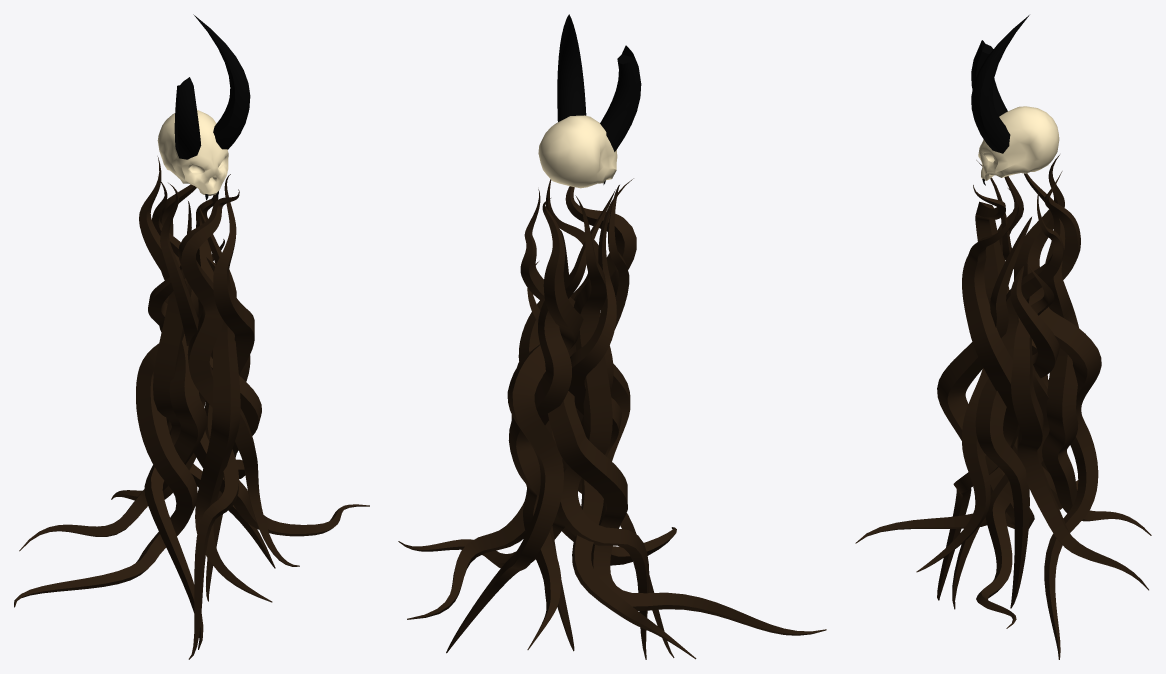
The model's file is RootBoss.fbx.
3 views of the same model, side by side, from view 1: azimuth 30°, elevation 25°; view 2: azimuth 150°, elevation 25°; view 3: azimuth 270°, elevation 25° (orthographic). The views are drawn at different scales.
Visible parts, largest first — view 1: Roots, Skull; view 2: Roots, Skull; view 3: Roots, Skull.
Part boxes in pixels (x1,y1,x2,y2): Roots: [14, 156, 369, 659]; Skull: [157, 14, 250, 200]; Roots: [398, 178, 826, 659]; Skull: [538, 14, 641, 188]; Roots: [855, 155, 1151, 659]; Skull: [971, 15, 1059, 185].
Size of the model in its own units: 1071 by 1659 by 729.
